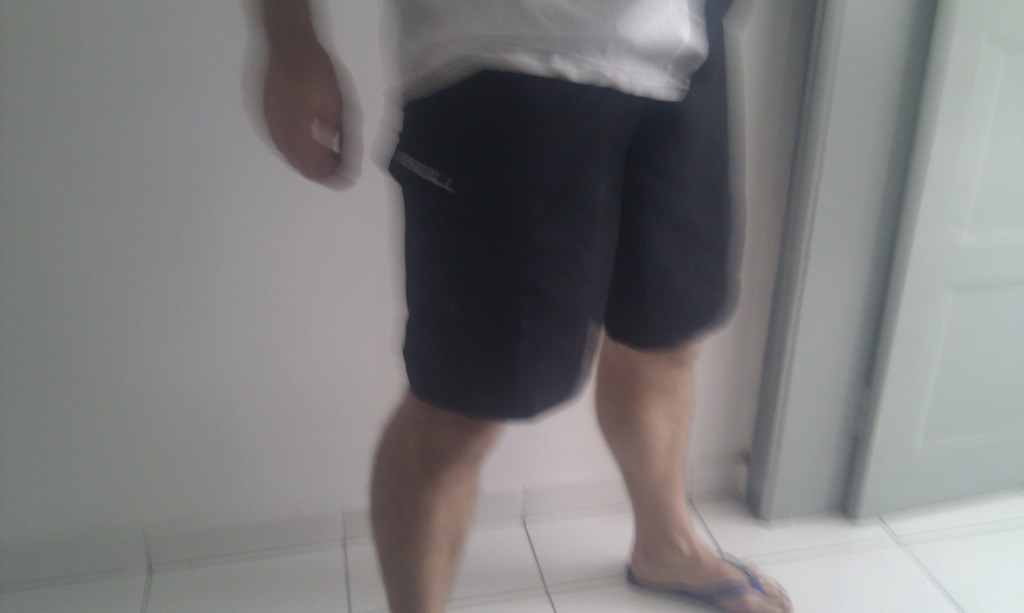Human_hand: (262, 35, 344, 180)
